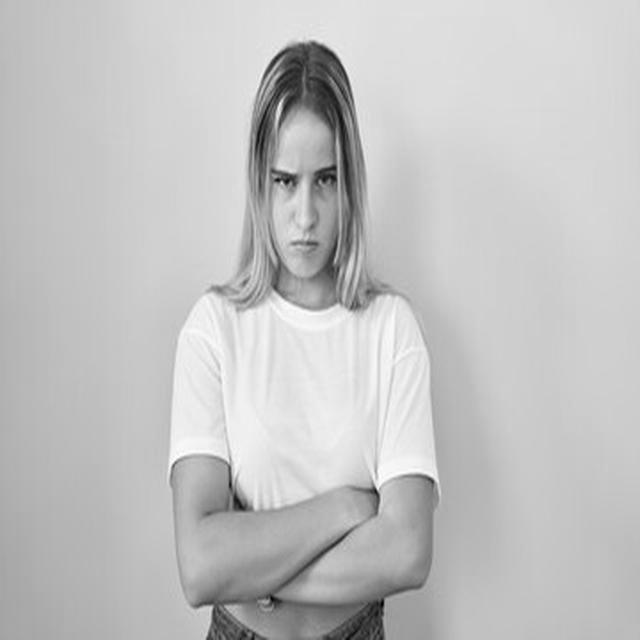Angry: (267, 120, 342, 277)
